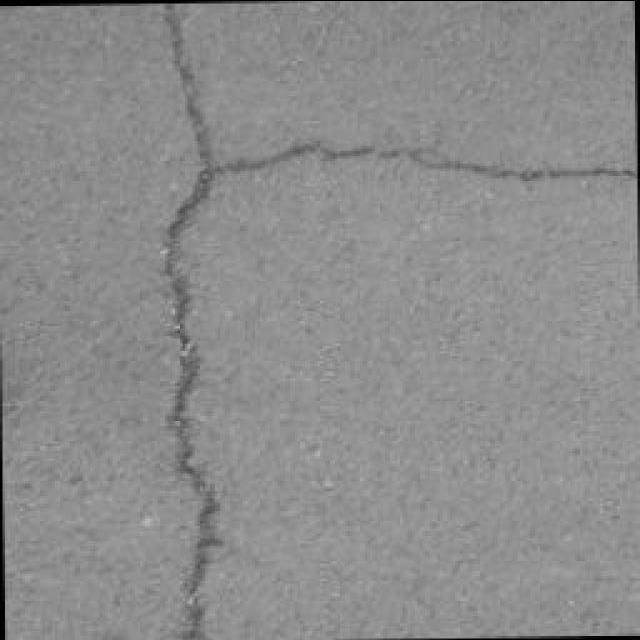Crack: (155, 4, 636, 637)
